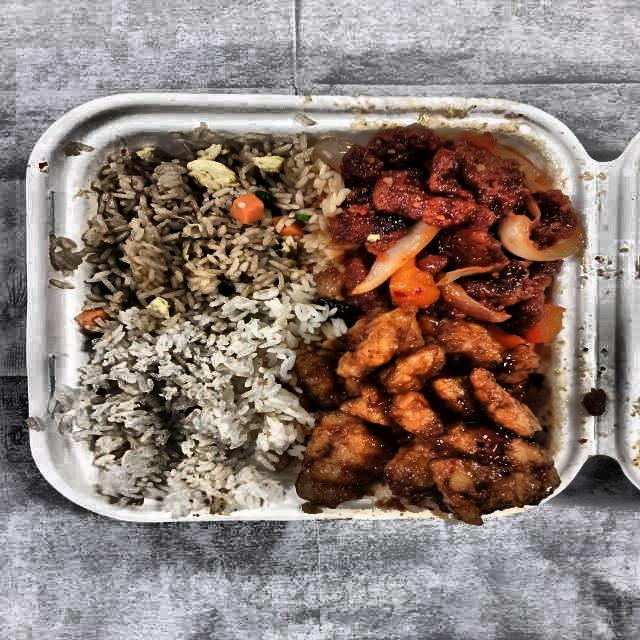Food: (287, 306, 564, 520), (313, 124, 583, 316), (79, 304, 302, 506), (80, 133, 328, 310)
